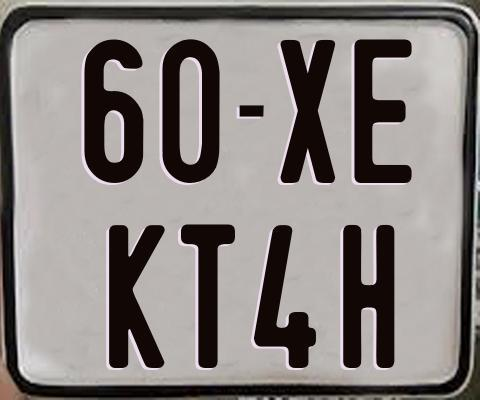0: (160, 37, 221, 182)
4: (252, 223, 315, 372)
6: (82, 39, 142, 185)
E: (353, 37, 412, 181)
H: (343, 225, 398, 371)
K: (108, 223, 165, 368)
T: (180, 222, 240, 367)
X: (279, 37, 339, 184)
